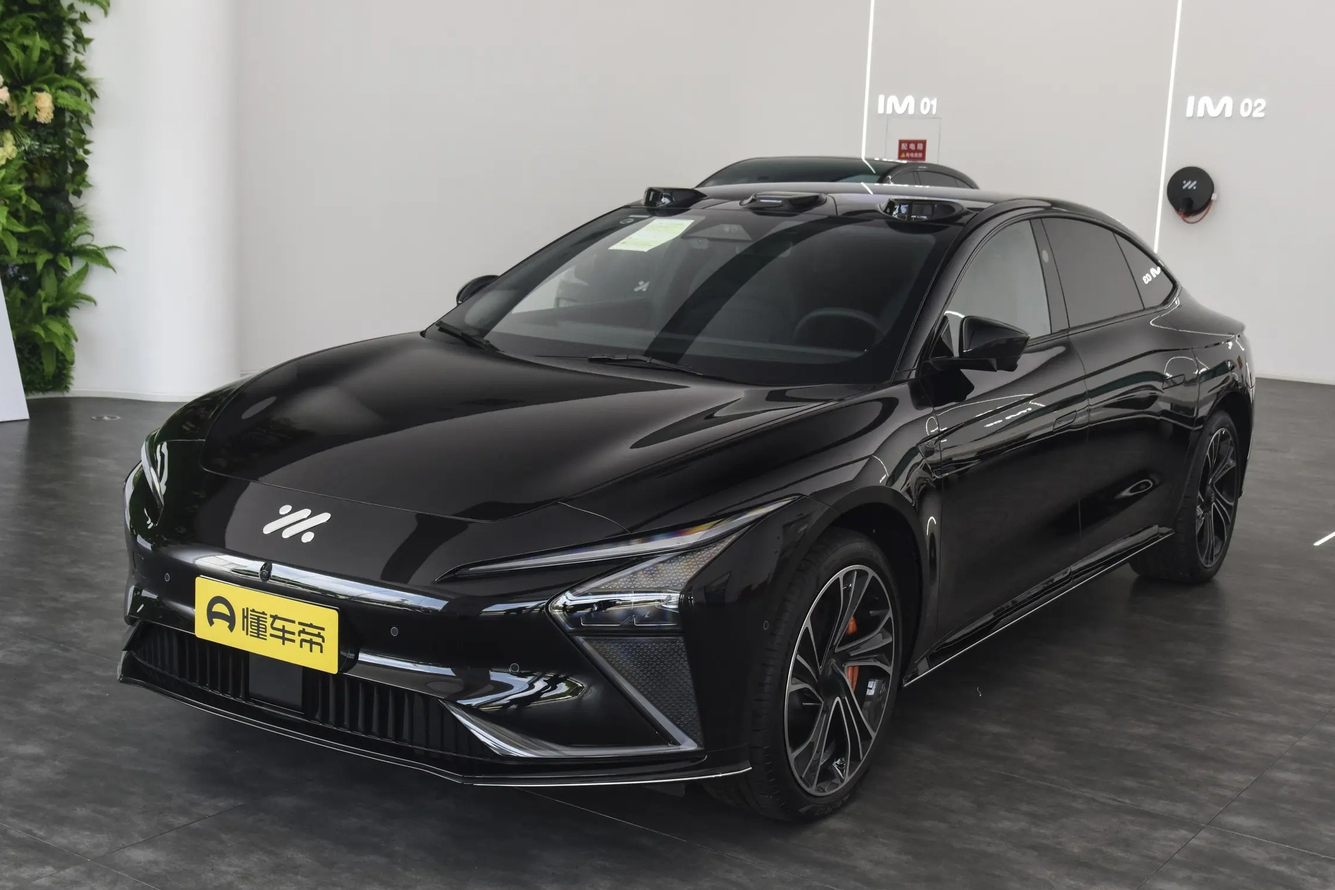IM: (263, 506, 331, 542)
